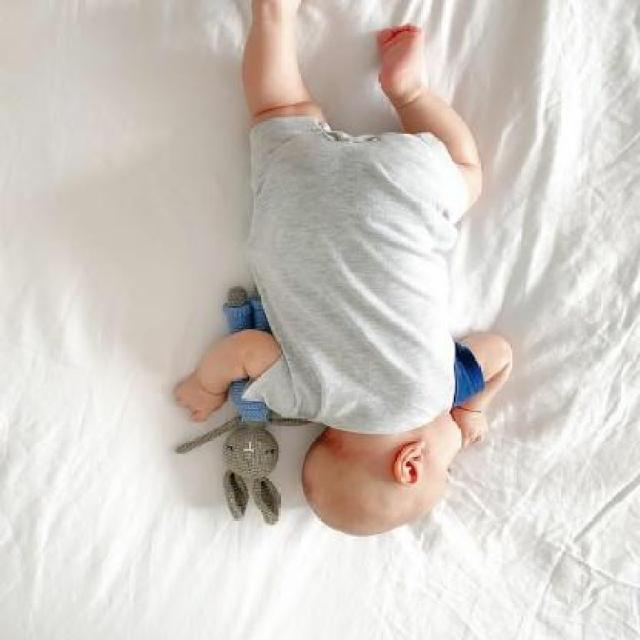baby: (171, 2, 514, 540)
